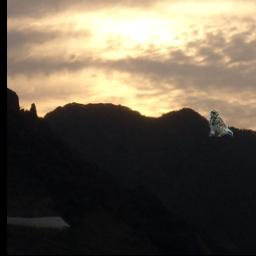Sparrow: (209, 110, 234, 138)
